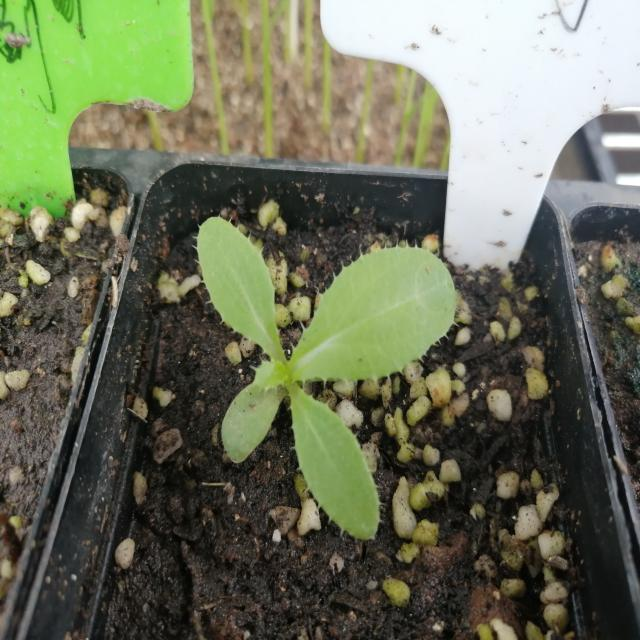field_thistle: (162, 165, 450, 558)
